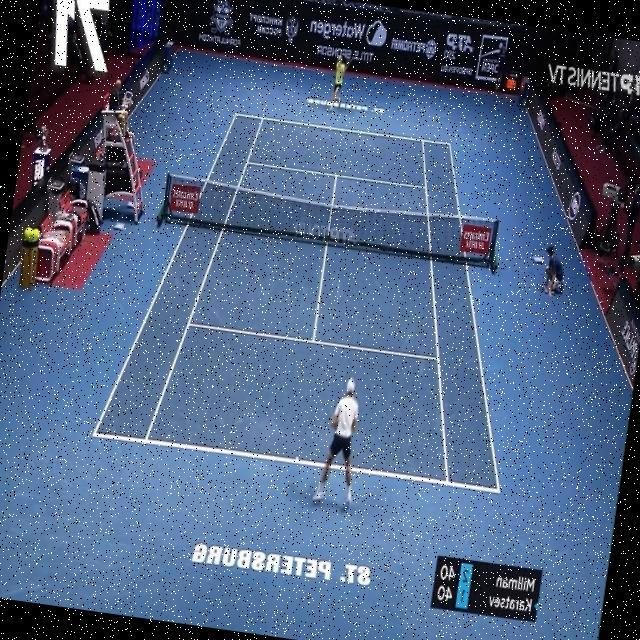court: (91, 99, 548, 494)
net: (160, 173, 500, 269)
player: (312, 374, 369, 506)
